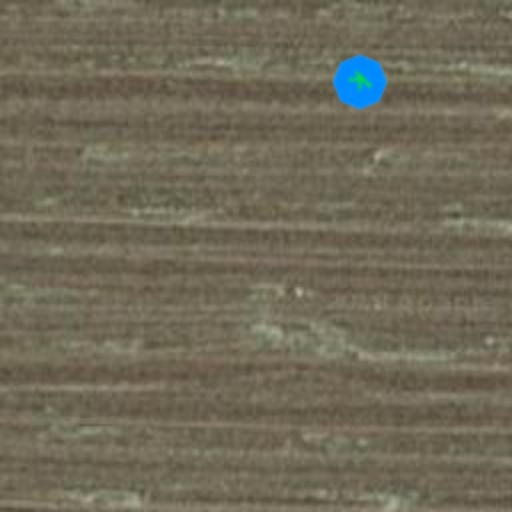octagon: (320, 42, 400, 122)
